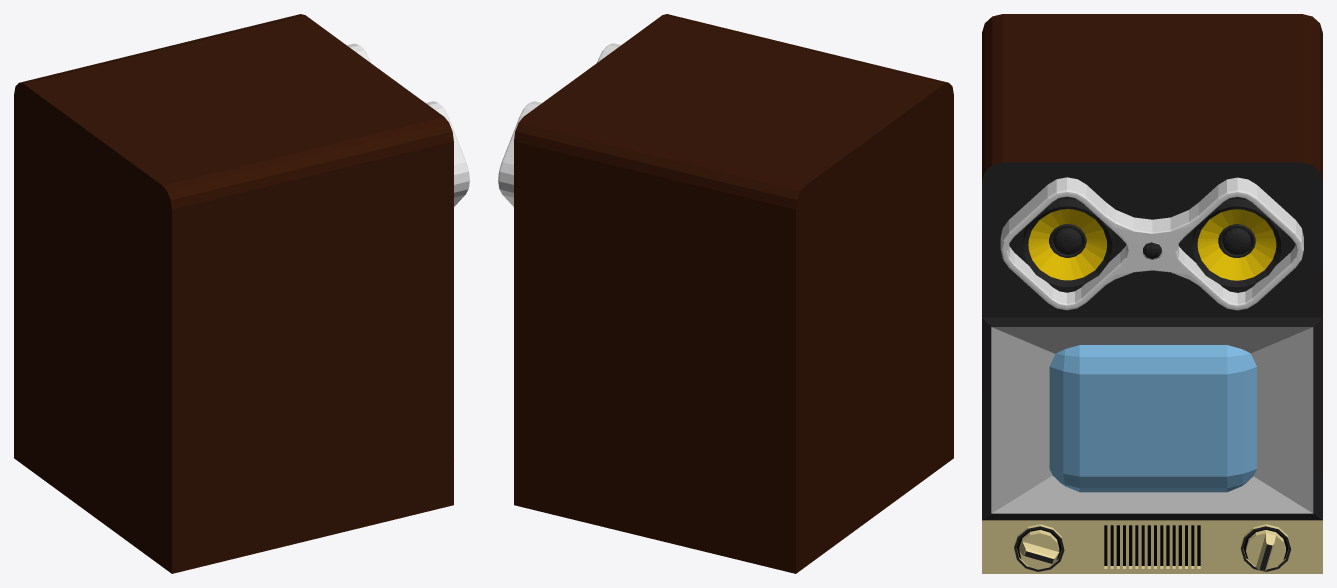
3 views of the same model, side by side, from view 1: azimuth 30°, elevation 25°; view 2: azimuth 150°, elevation 25°; view 3: azimuth 270°, elevation 25° (orthographic). The views are drawn at different scales.
Visible parts, largest first — view 1: TV; view 2: TV; view 3: TV, Ekran TV.
Part boxes in pixels (x1=…): TV: x1=14, y1=14, x2=469, y2=573; TV: x1=498, y1=14, x2=953, y2=573; TV: x1=982, y1=14, x2=1322, y2=573; Ekran TV: x1=1049, y1=345, x2=1256, y2=492.
Bounding box in the file's own units: 96.36 × 113 × 84.98.
